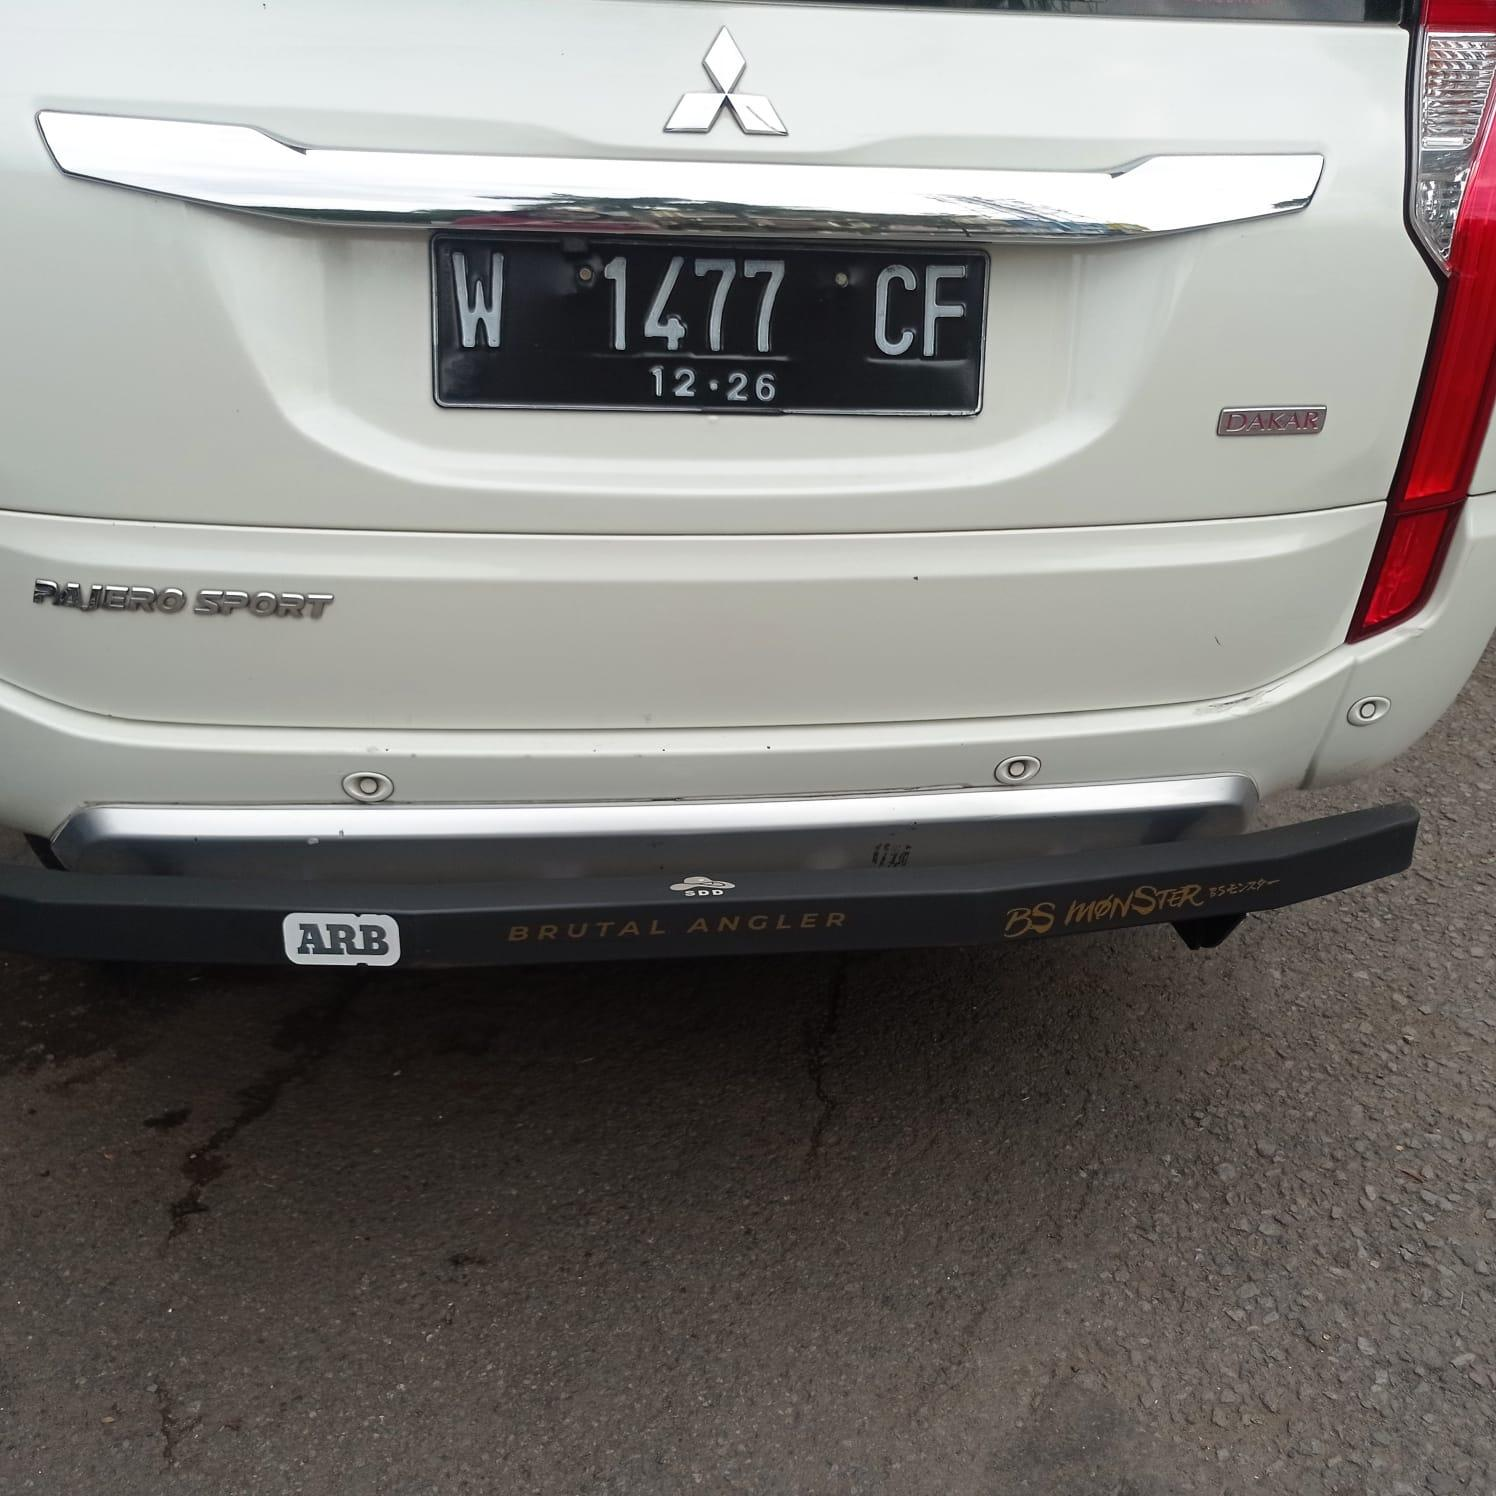plat: (433, 234, 988, 415)
